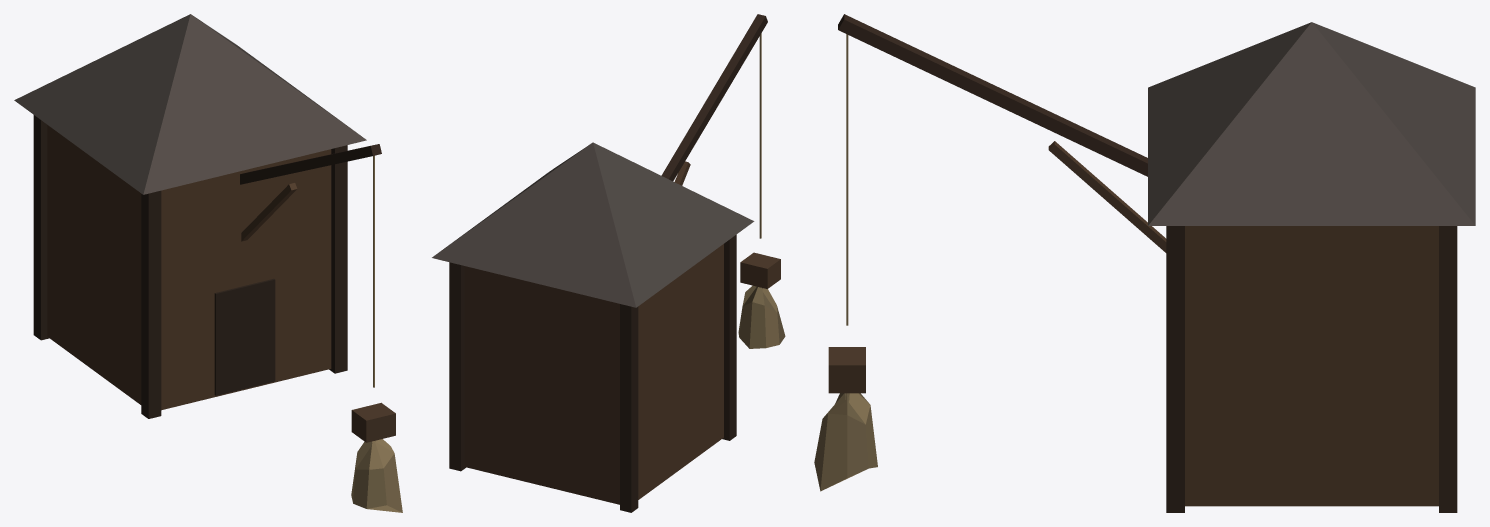
The model's file is walk_prop_harbour_crane.glb.
The picture shows the model from 3 angles, left to right: view 1: azimuth 30°, elevation 25°; view 2: azimuth 150°, elevation 25°; view 3: azimuth 270°, elevation 25°; orthographic projection. The views are drawn at different scales.
Parts seen in each view (by area): view 1: walk_prop_harbour_crane, walk_prop_harbour_crane_roof; view 2: walk_prop_harbour_crane, walk_prop_harbour_crane_roof; view 3: walk_prop_harbour_crane, walk_prop_harbour_crane_roof.
Boxes of the visible parts, x1,y1,x2,y2 form: walk_prop_harbour_crane: (33,115,402,512); walk_prop_harbour_crane_roof: (14,14,366,194); walk_prop_harbour_crane: (449,14,785,512); walk_prop_harbour_crane_roof: (432,142,754,307); walk_prop_harbour_crane: (814,14,1457,512); walk_prop_harbour_crane_roof: (1148,22,1475,225).
Size of what is drawn, in the model's own units: 5.29 by 8.26 by 10.68.
1 material, 1 textured.
